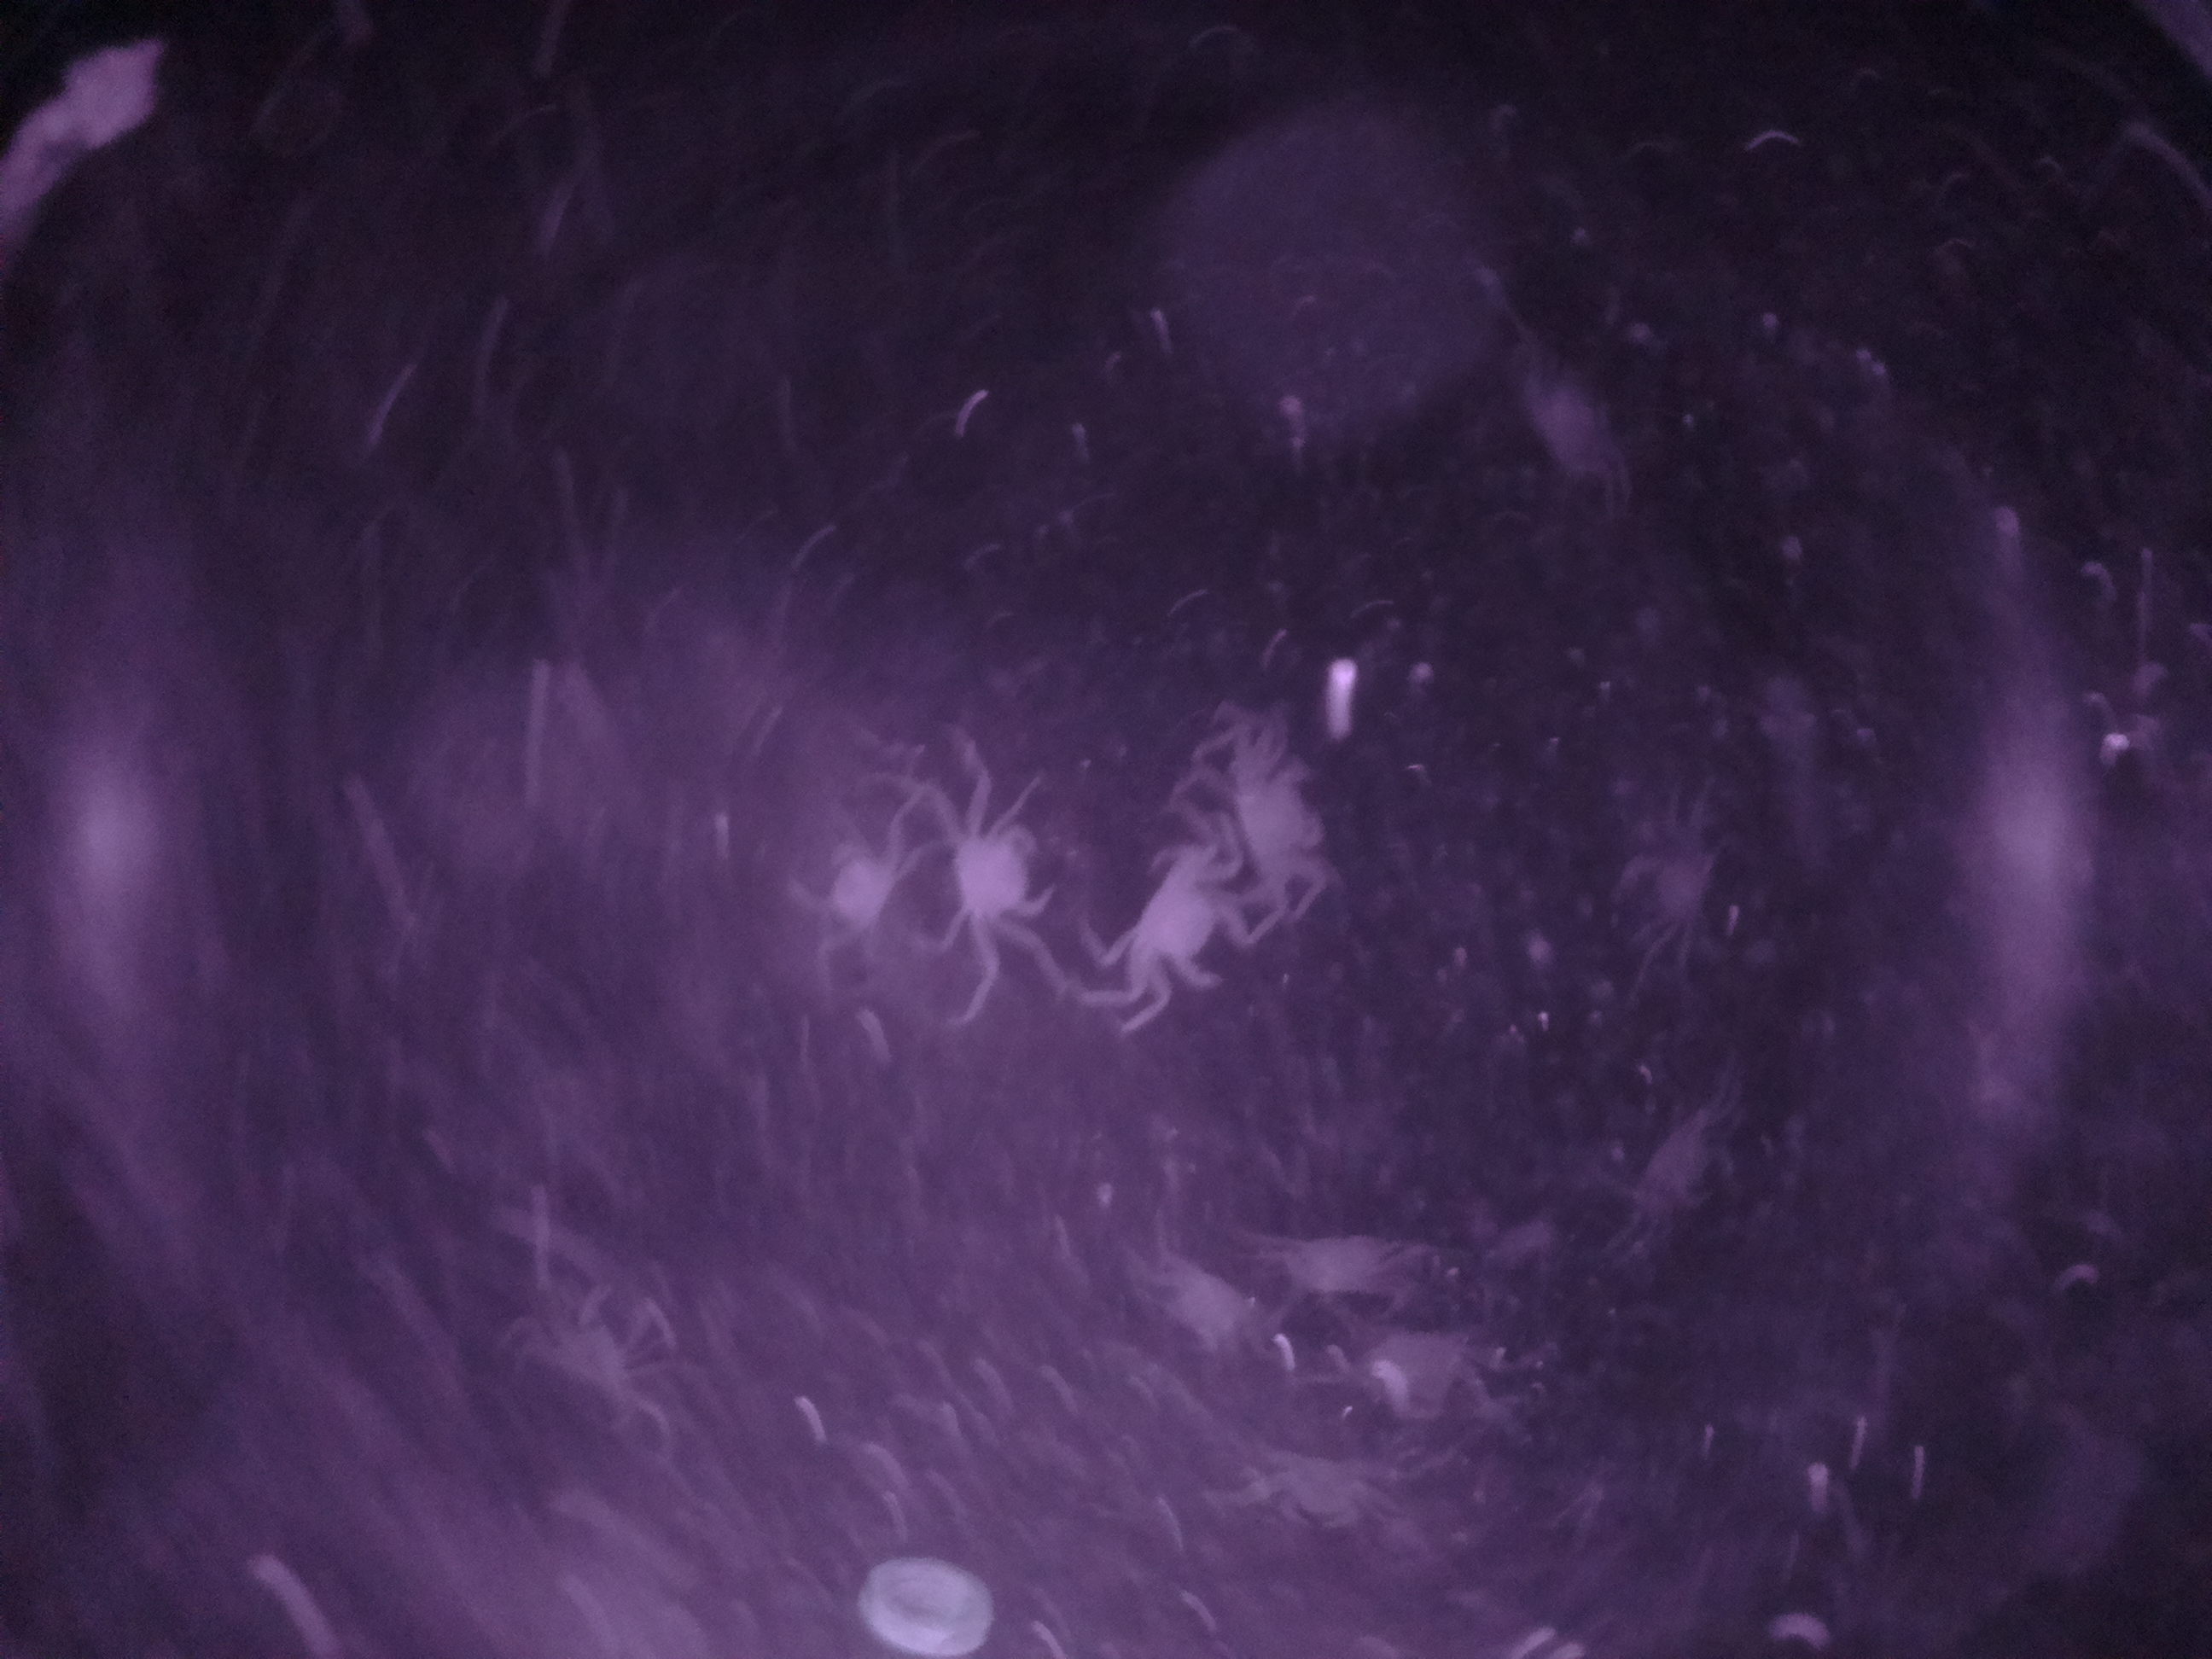Crab: (918, 793, 1087, 945), (1104, 849, 1247, 1014)
